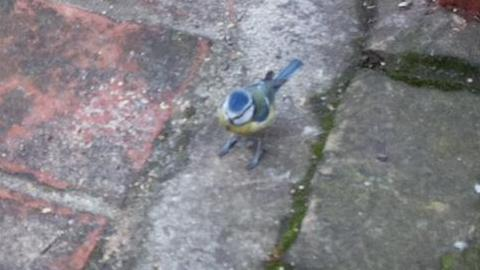blue tit: (216, 58, 305, 172)
